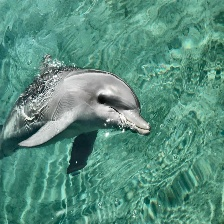dolphin: (0, 51, 152, 176)
